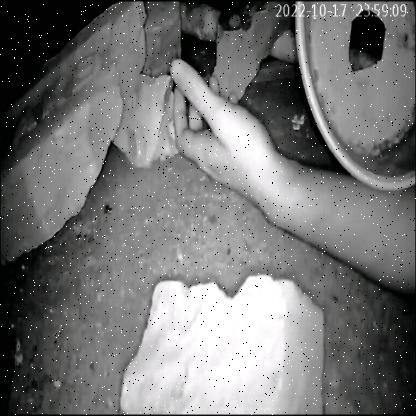hand: (149, 44, 393, 279)
